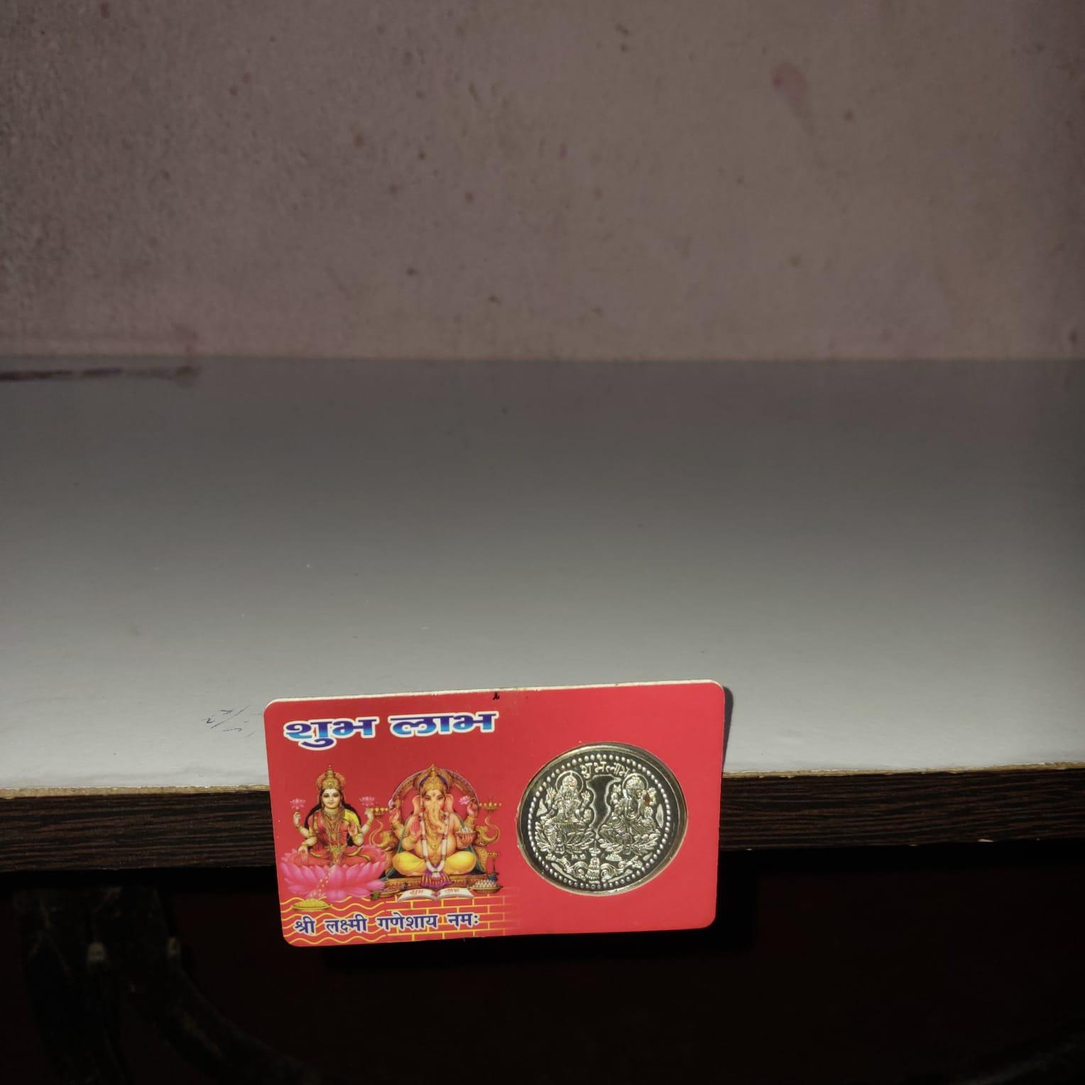blessing_card: (271, 685, 738, 952)
